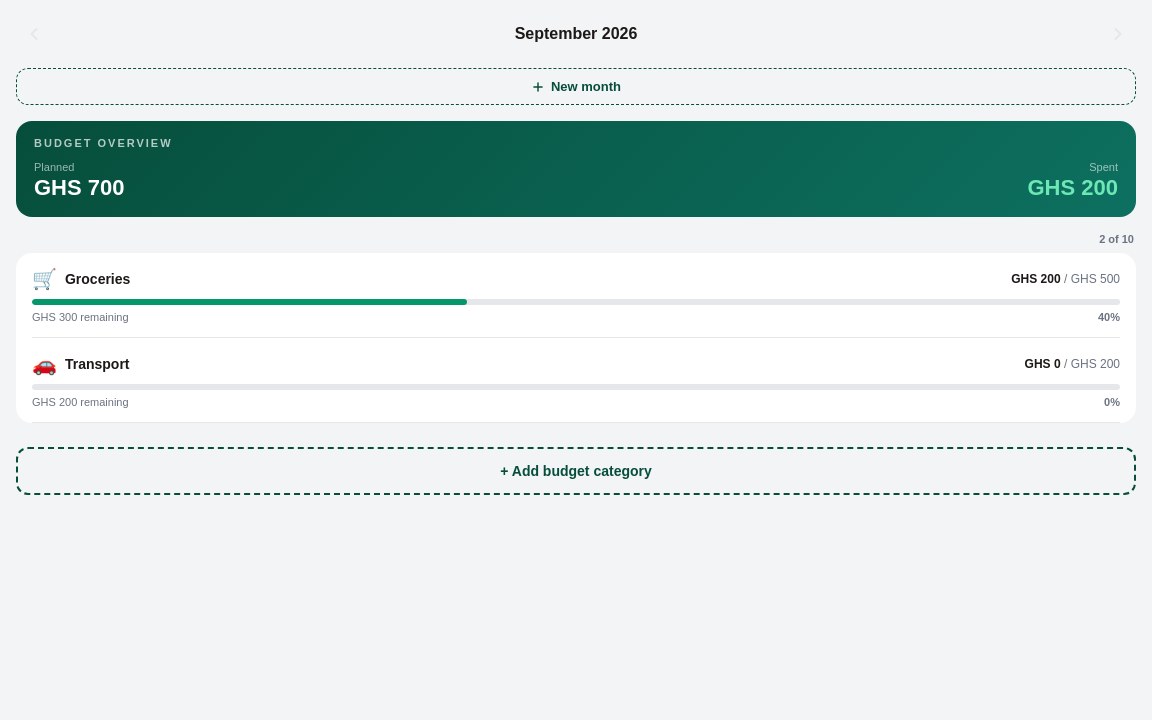
Test: BudgetView › the always-visible header button opens the budget-period creator
Click the button with test id "new-period-btn": (576, 86) [16,68,1136,105]
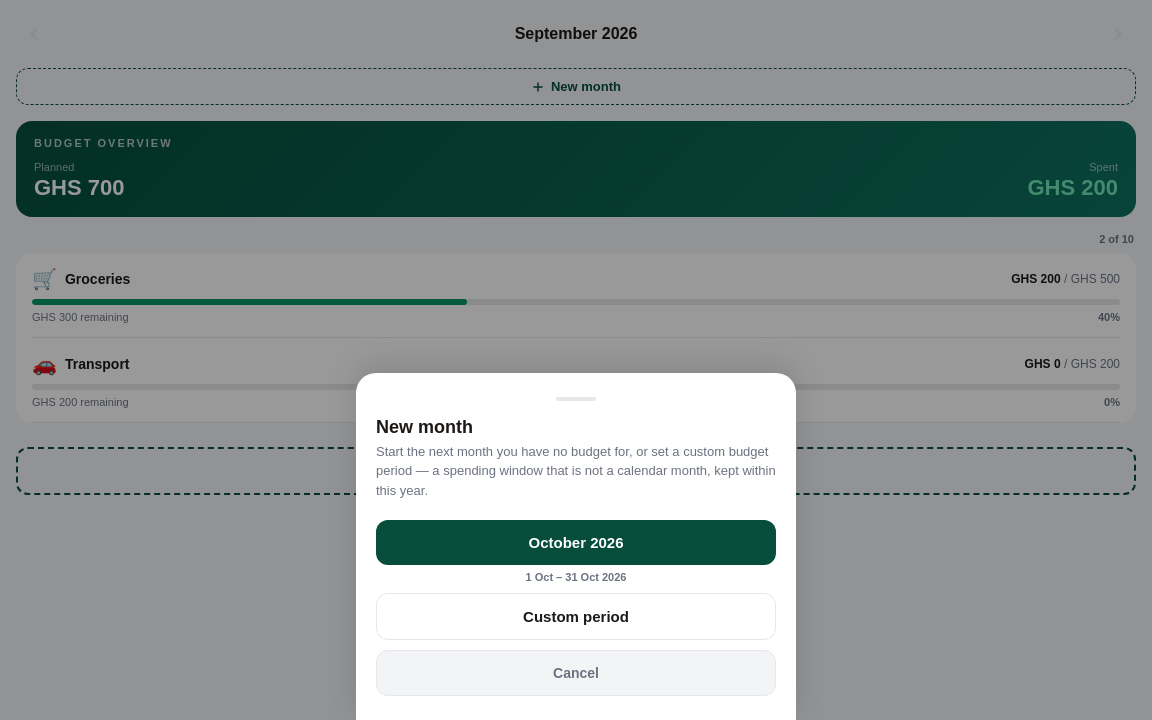
Check: the dialog with test id "create-period-sheet" is shown, box [356,372,796,719]
